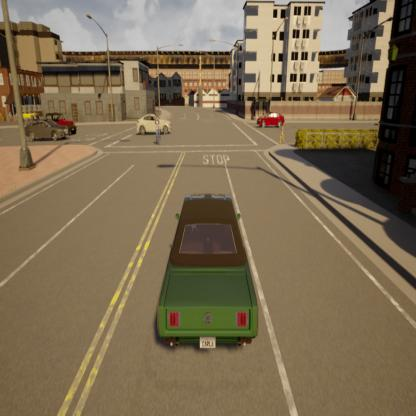Cars: (130, 167, 264, 359), (20, 117, 68, 144), (133, 110, 173, 138), (253, 108, 291, 134), (38, 112, 80, 134), (12, 109, 41, 122)
Pedestrian: (275, 123, 287, 146)
